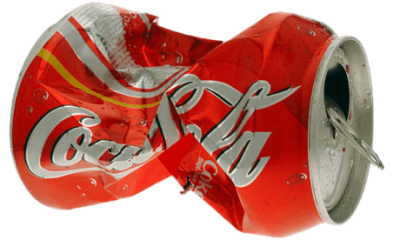can: (8, 1, 387, 240)
